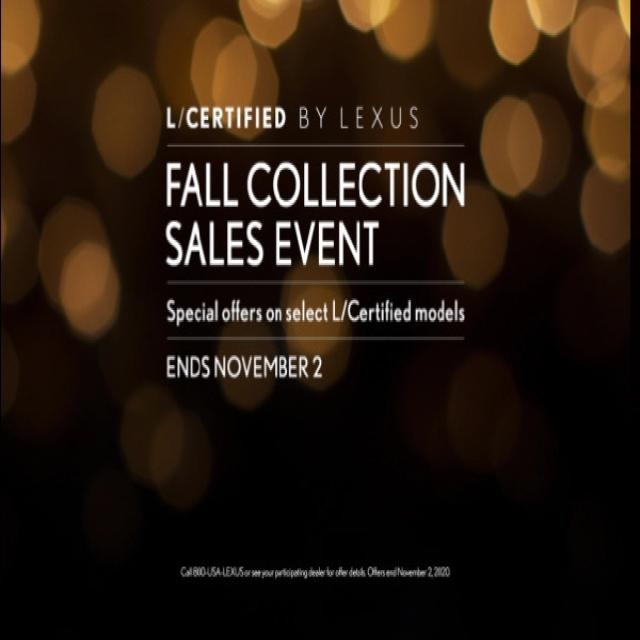Background Image: (2, 0, 636, 635)
Testimonial Quotes: (161, 100, 468, 385)
Text Elements: (162, 152, 466, 270), (164, 155, 465, 212), (164, 292, 466, 326), (164, 100, 420, 133), (178, 562, 451, 580)
